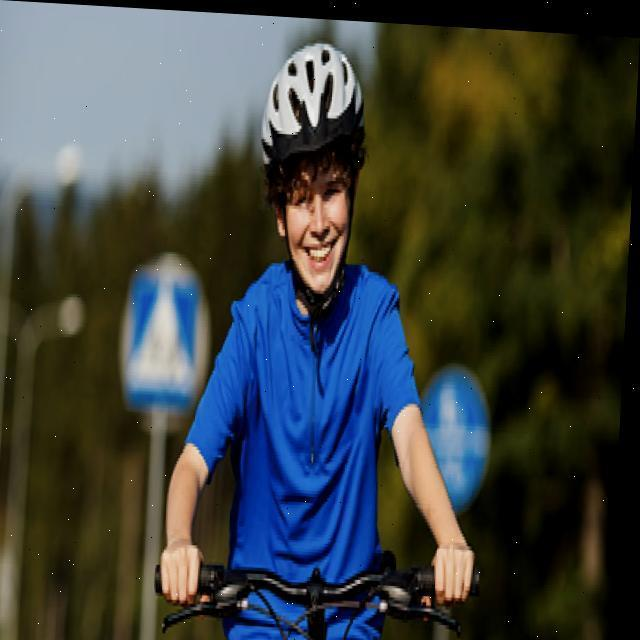Helmet: (250, 31, 375, 307)
